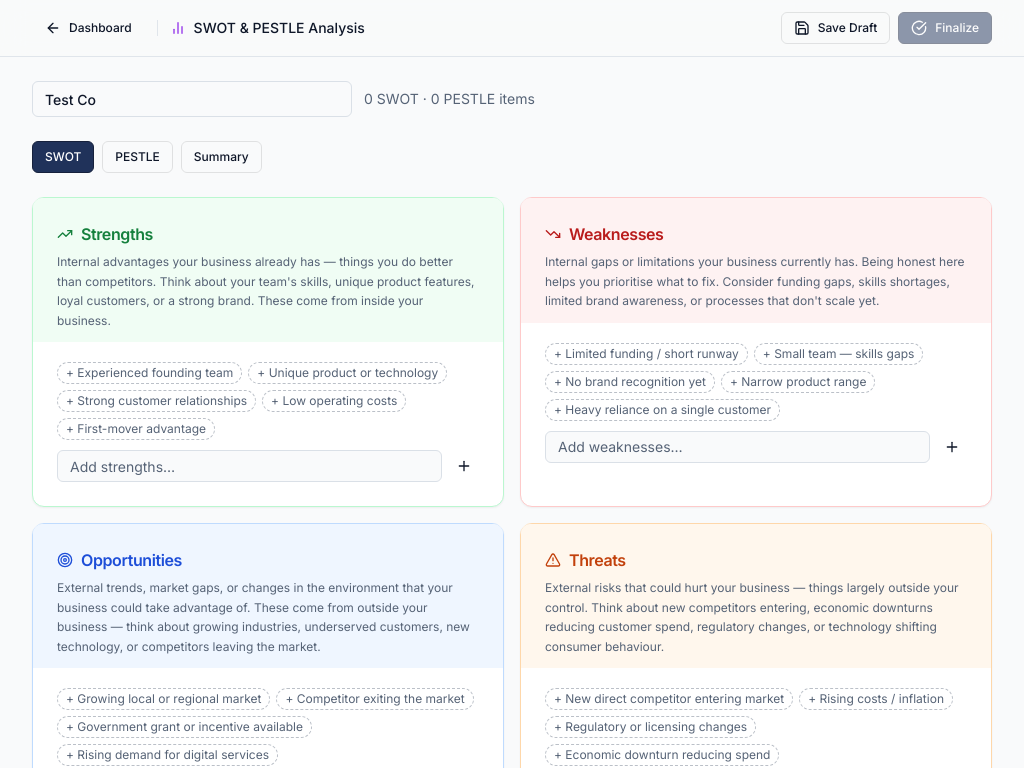
Test: SWOTPestleTool › switching to PESTLE shows the 6 PESTLE categories
Click the button with test id "button-tab-pestle": (138, 157) 102,141 -> 173,173
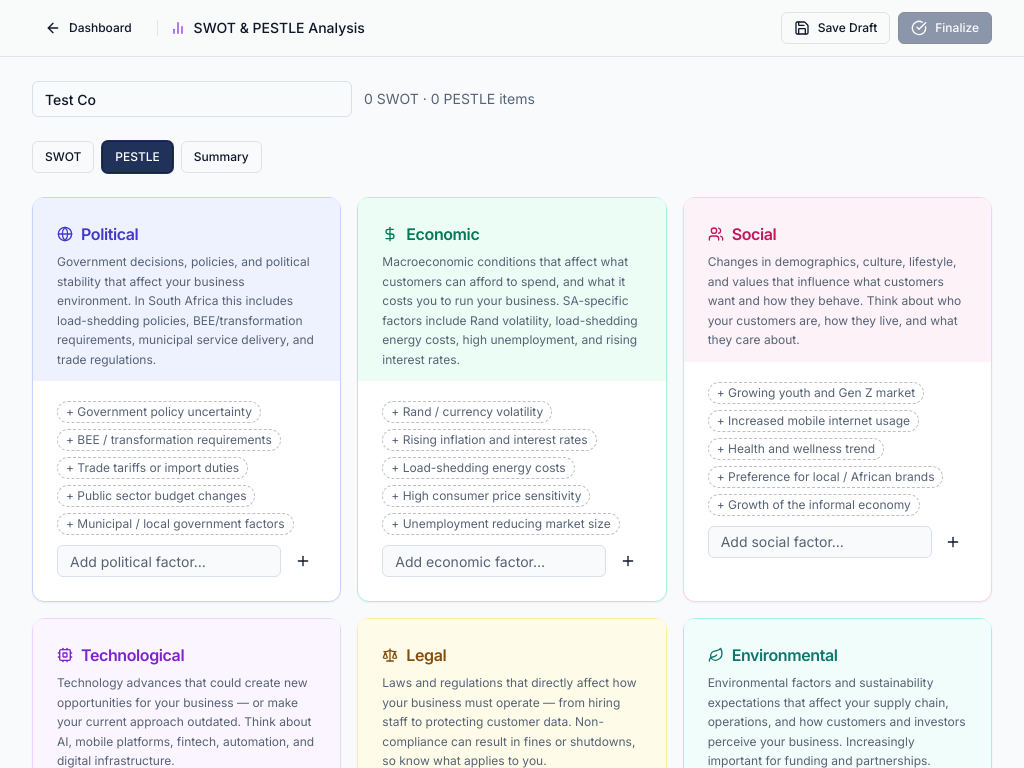
Expected: the text "Political" is shown, 57,224 -> 138,244
Expected: the text "Social" is shown, 708,224 -> 776,244
Expected: the text "Technological" is shown, 57,645 -> 184,665
